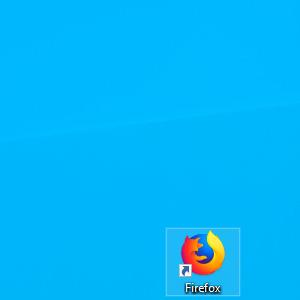firefox: (179, 229, 225, 277)
